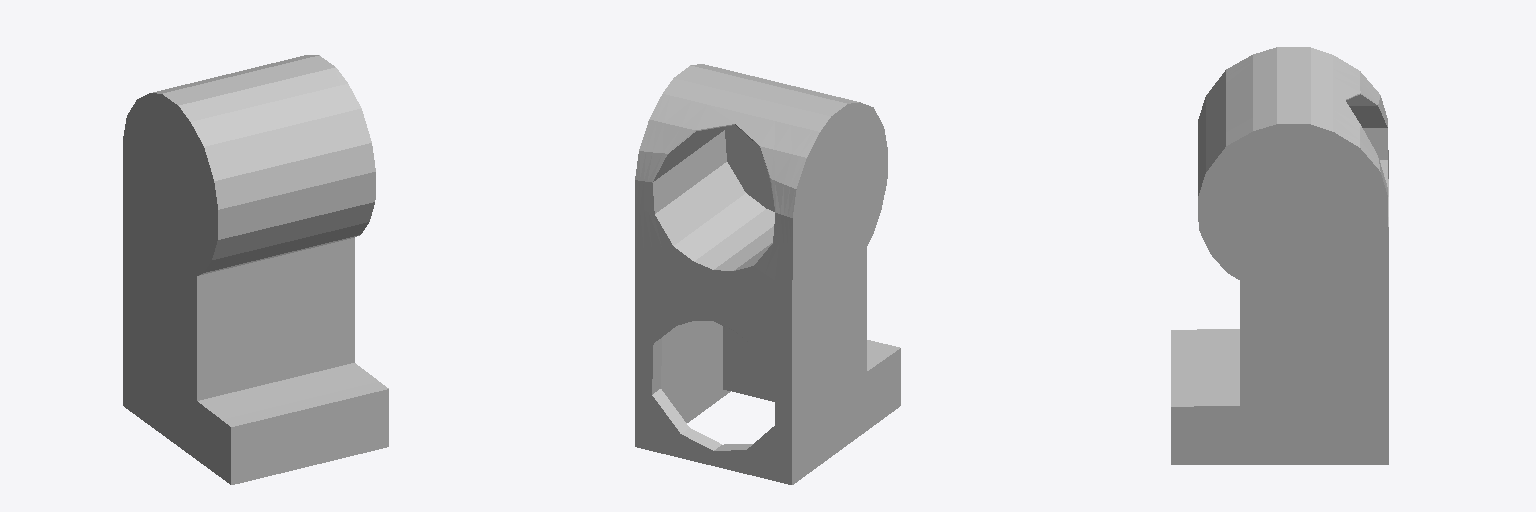
The model's file is elfo_pierna_izquierda.obj.
3 views of the same model, side by side, from view 1: azimuth 30°, elevation 25°; view 2: azimuth 150°, elevation 25°; view 3: azimuth 270°, elevation 25° (orthographic).
Visible parts, largest first — view 1: Mesh_Default; view 2: Mesh_Default; view 3: Mesh_Default.
Part boxes in pixels (bbox=[...]): Mesh_Default: bbox=[123, 55, 388, 484]; Mesh_Default: bbox=[635, 64, 900, 484]; Mesh_Default: bbox=[1171, 47, 1388, 464].
Size of the model in its own units: 0.9038 by 1.87 by 1.08.